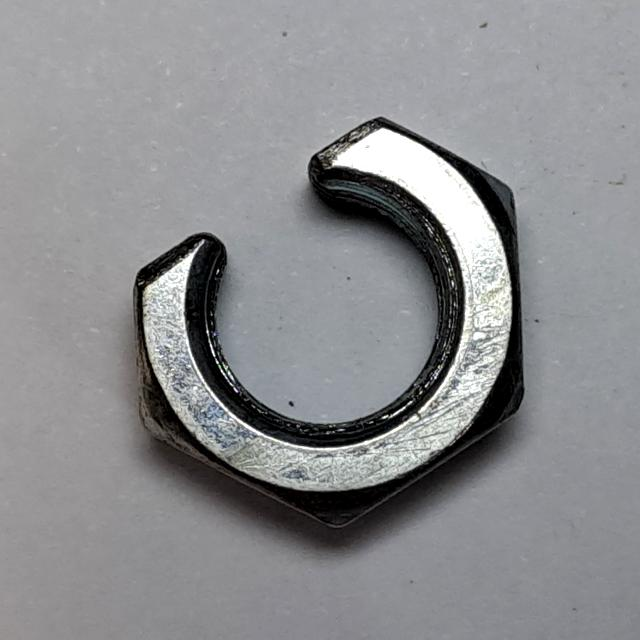Fracture: (117, 106, 539, 542)
